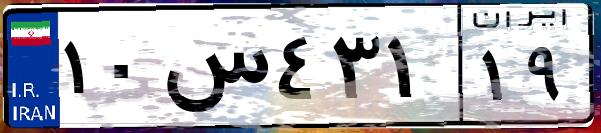0: (110, 28, 158, 98)
1: (385, 28, 445, 110), (57, 26, 110, 100), (475, 38, 525, 113)
3: (330, 28, 385, 110)
4: (270, 28, 330, 110)
9: (525, 38, 570, 115)
س: (158, 20, 270, 120)
